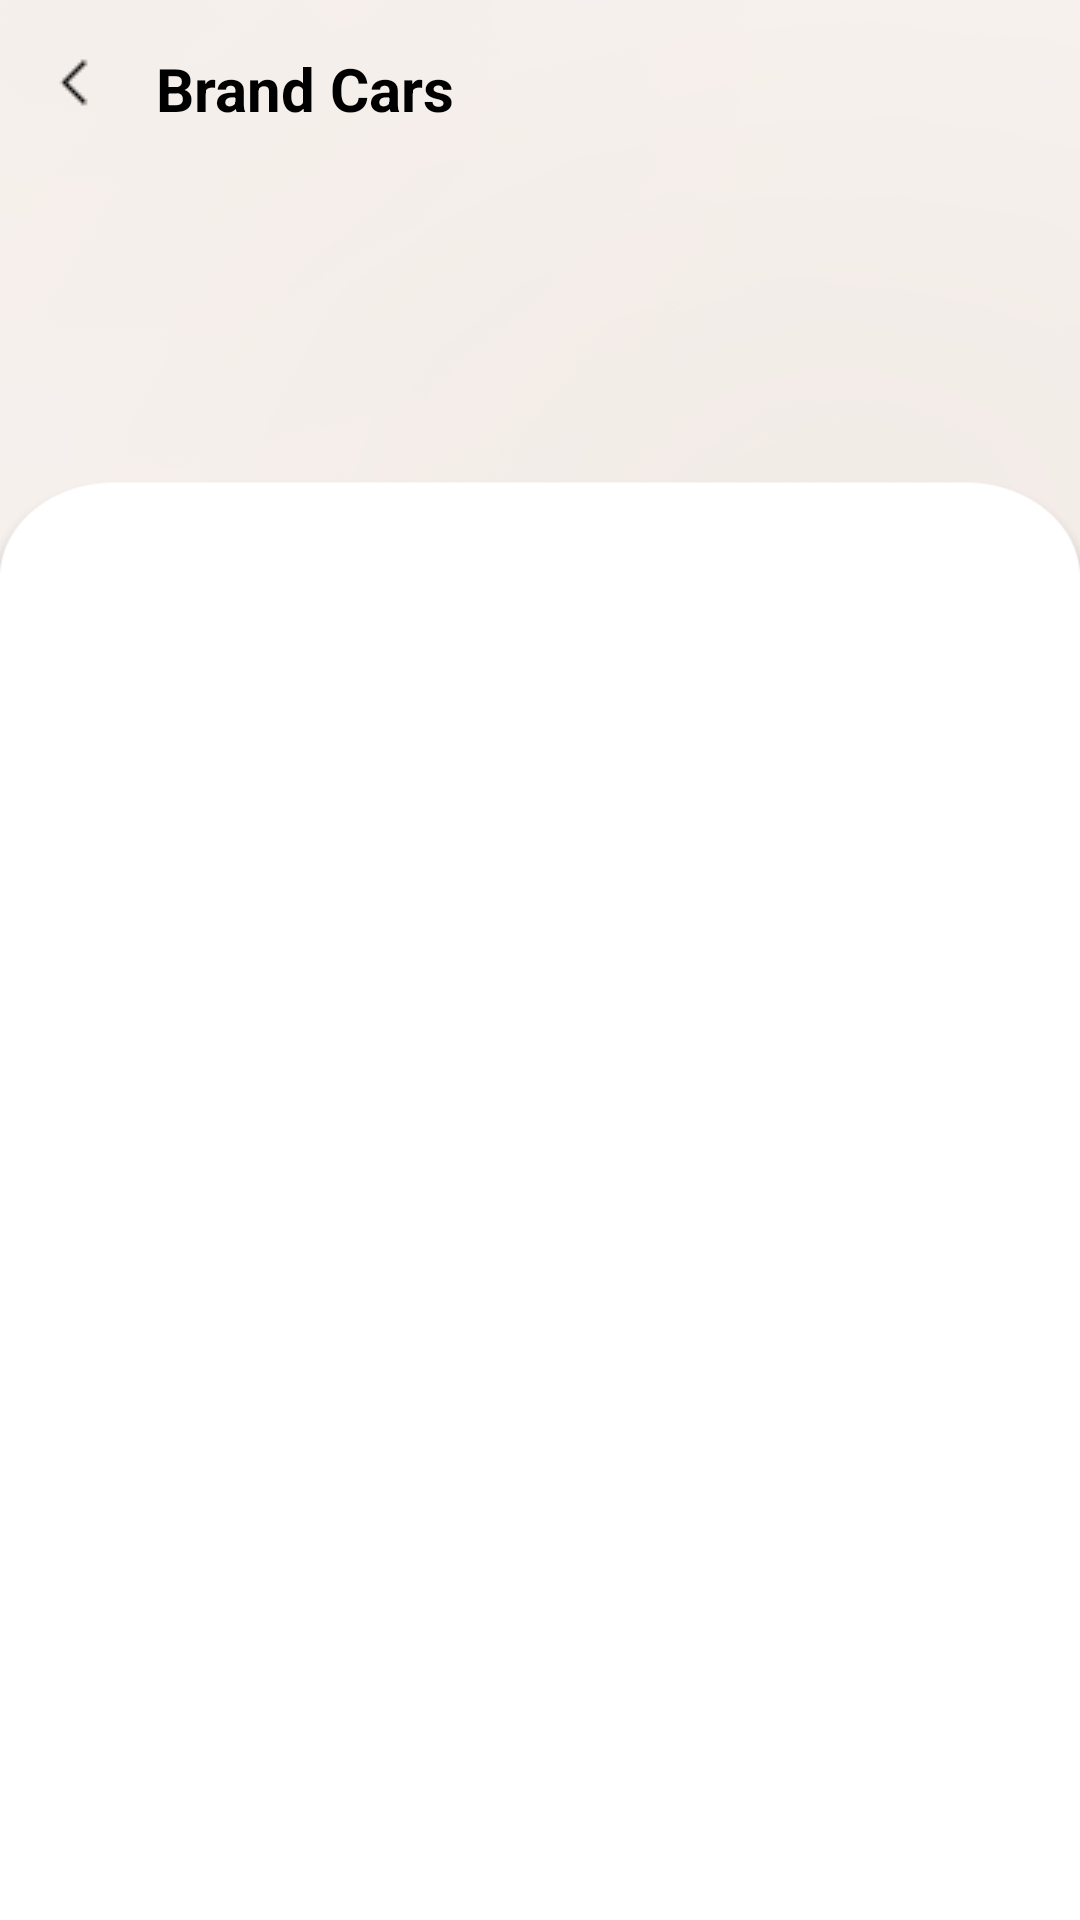

Where to tap for icons on this 1080*1920 app screen, as (x=x, y=y):
Back: (x=74, y=82)
